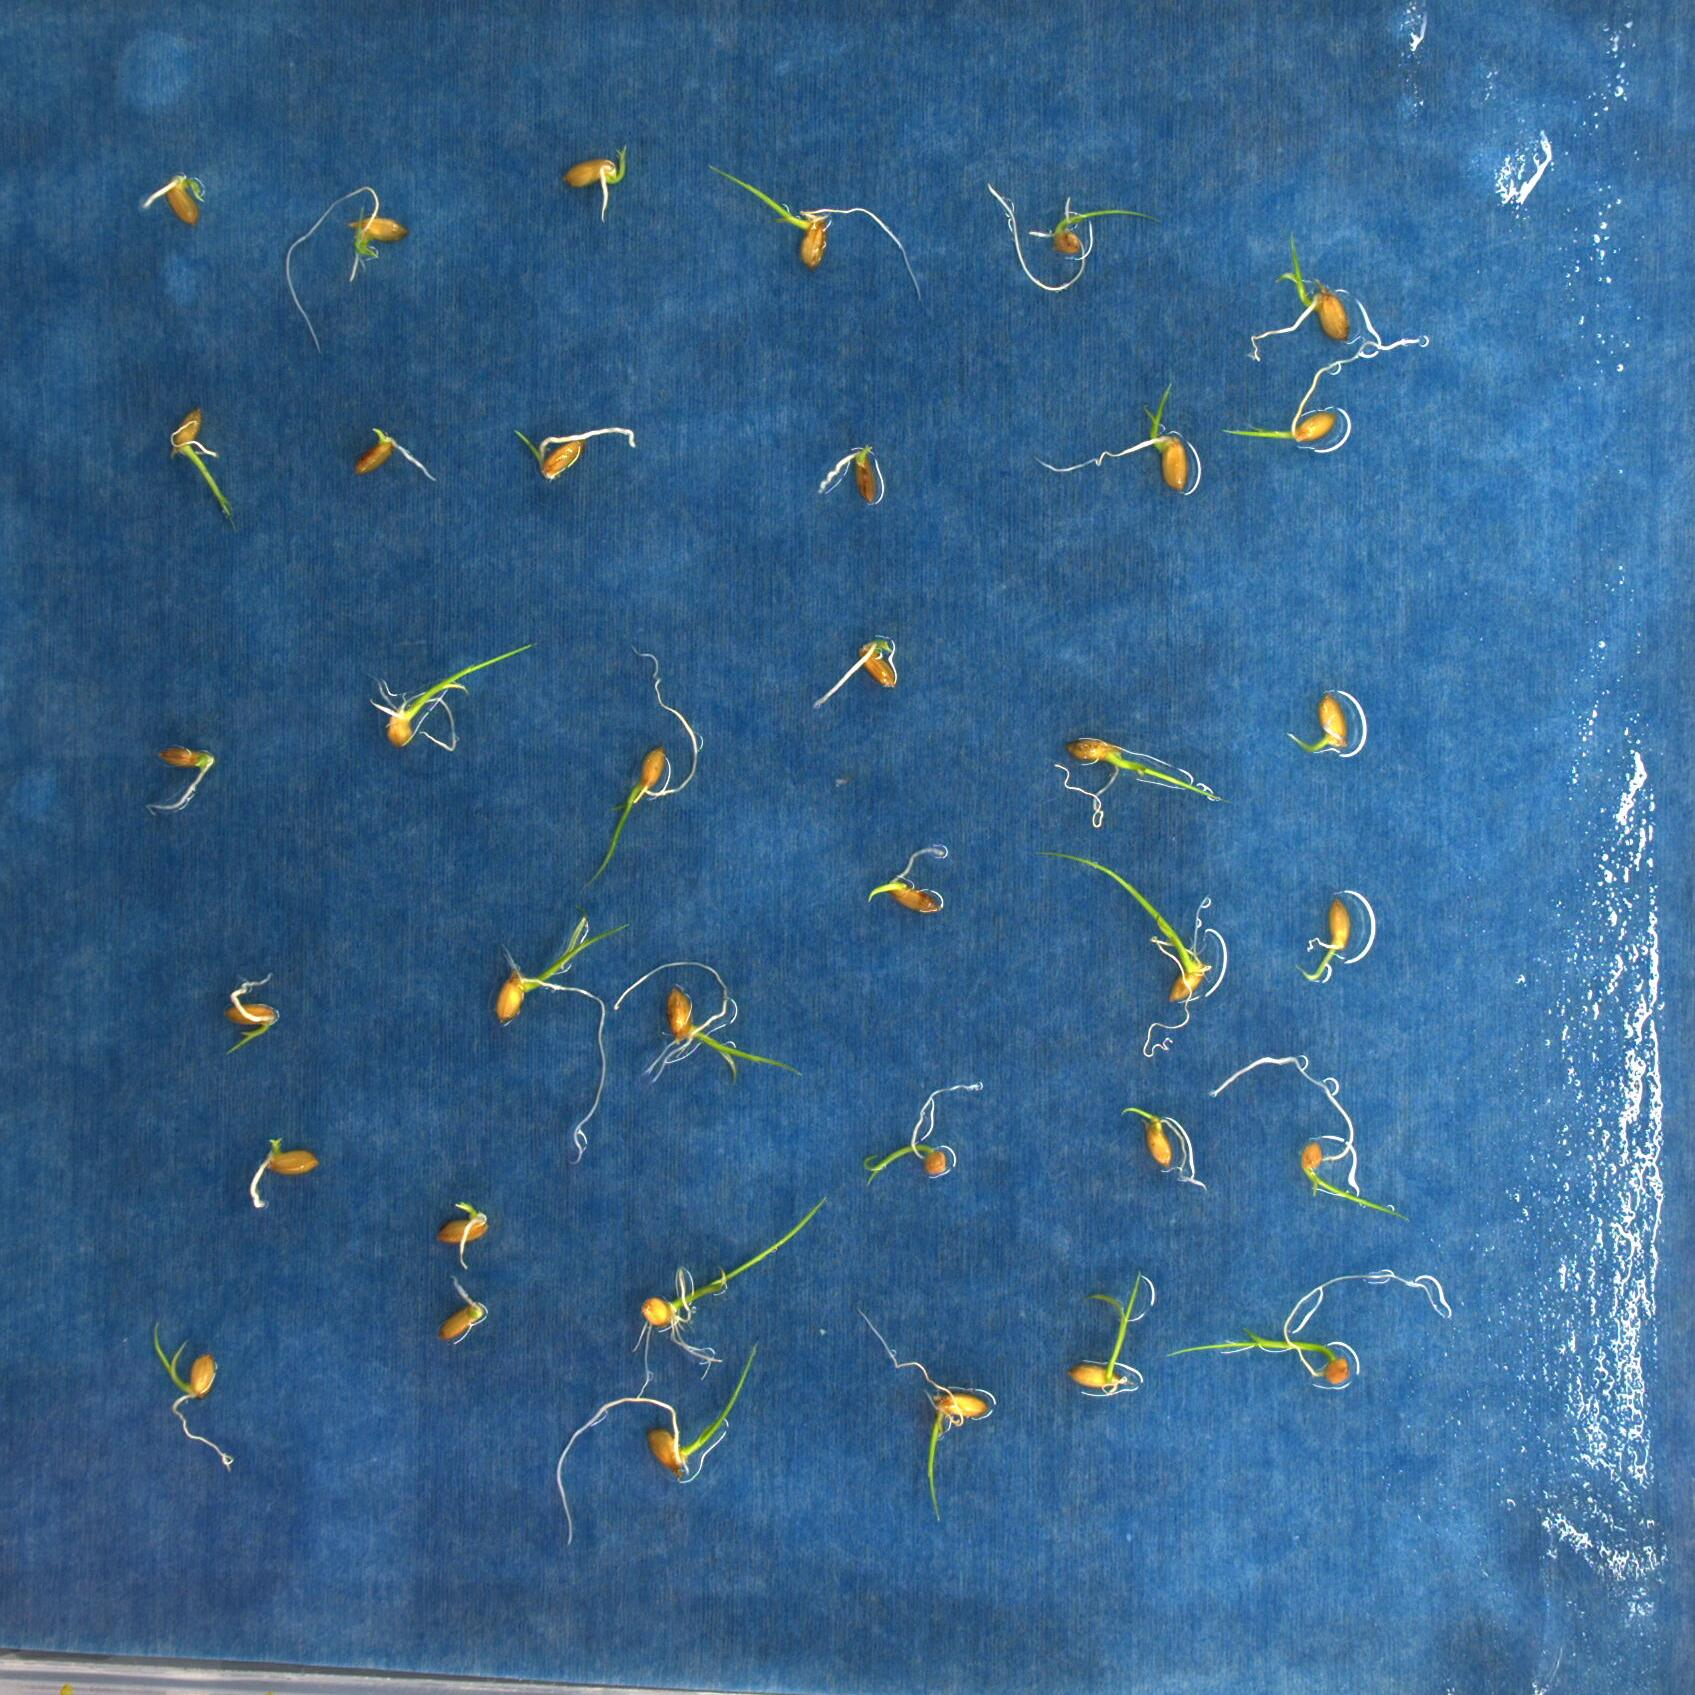not sprout: (804, 627, 914, 702), (865, 843, 959, 925), (349, 421, 435, 497), (248, 1135, 320, 1209), (815, 447, 896, 508), (430, 1296, 490, 1357)
sprout: (543, 1319, 775, 1555), (629, 1181, 854, 1395), (1028, 861, 1237, 1063), (697, 147, 930, 321), (1211, 1046, 1423, 1229), (1149, 1267, 1461, 1391), (484, 906, 632, 1169), (567, 643, 706, 900), (847, 1310, 1004, 1532), (602, 959, 815, 1104), (276, 171, 428, 369), (975, 169, 1184, 290), (1040, 730, 1243, 841), (369, 636, 532, 771), (1031, 376, 1198, 500), (849, 1062, 986, 1212), (133, 1326, 244, 1487), (1226, 349, 1366, 467), (1246, 227, 1349, 371), (1068, 1251, 1153, 1419), (161, 400, 258, 545), (1121, 1087, 1212, 1192), (497, 405, 640, 472), (1288, 893, 1366, 989), (553, 140, 647, 217), (140, 748, 234, 823), (214, 973, 293, 1062), (1284, 681, 1369, 761), (427, 1200, 498, 1263), (144, 169, 211, 231)
